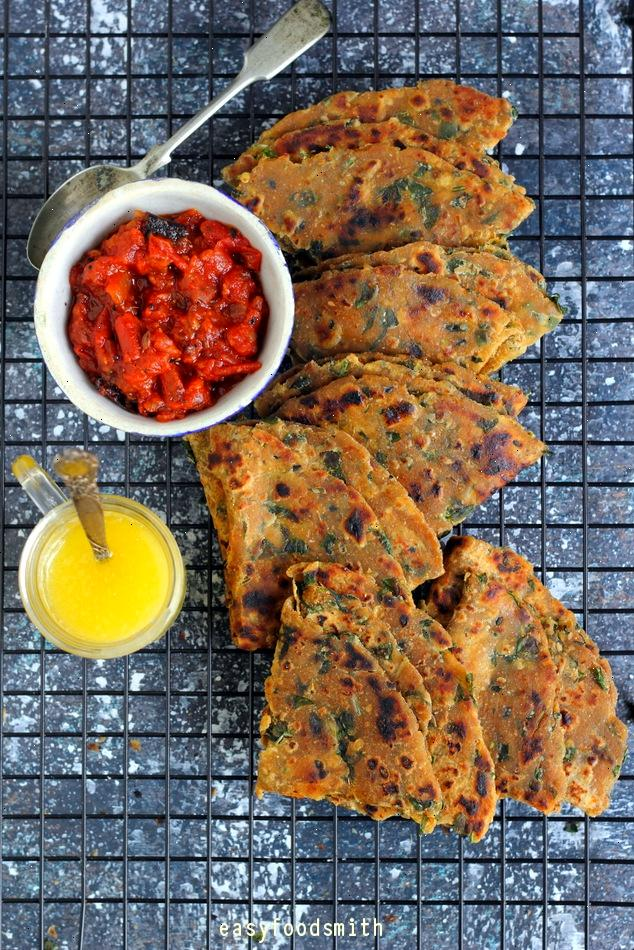thepla: (283, 81, 619, 834)
